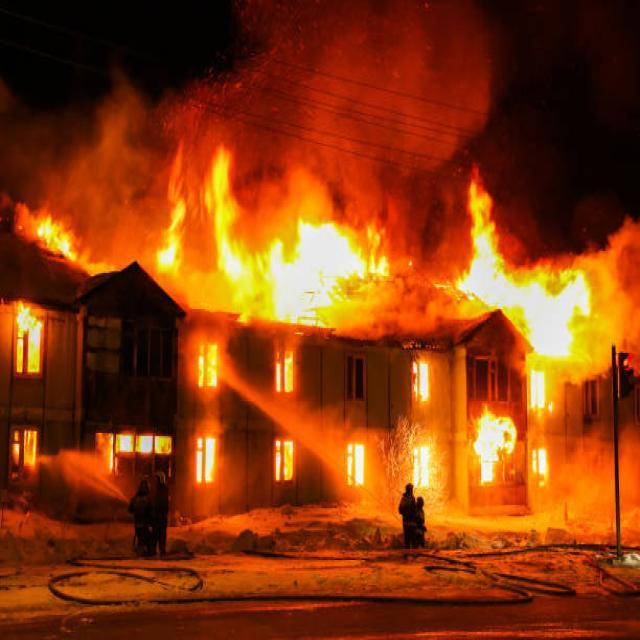Fire: (465, 186, 604, 360), (162, 148, 276, 292), (280, 230, 356, 310), (520, 342, 550, 502), (31, 192, 88, 262), (468, 408, 514, 482)
Smoke: (226, 8, 522, 238), (40, 89, 224, 248), (584, 216, 640, 376)
